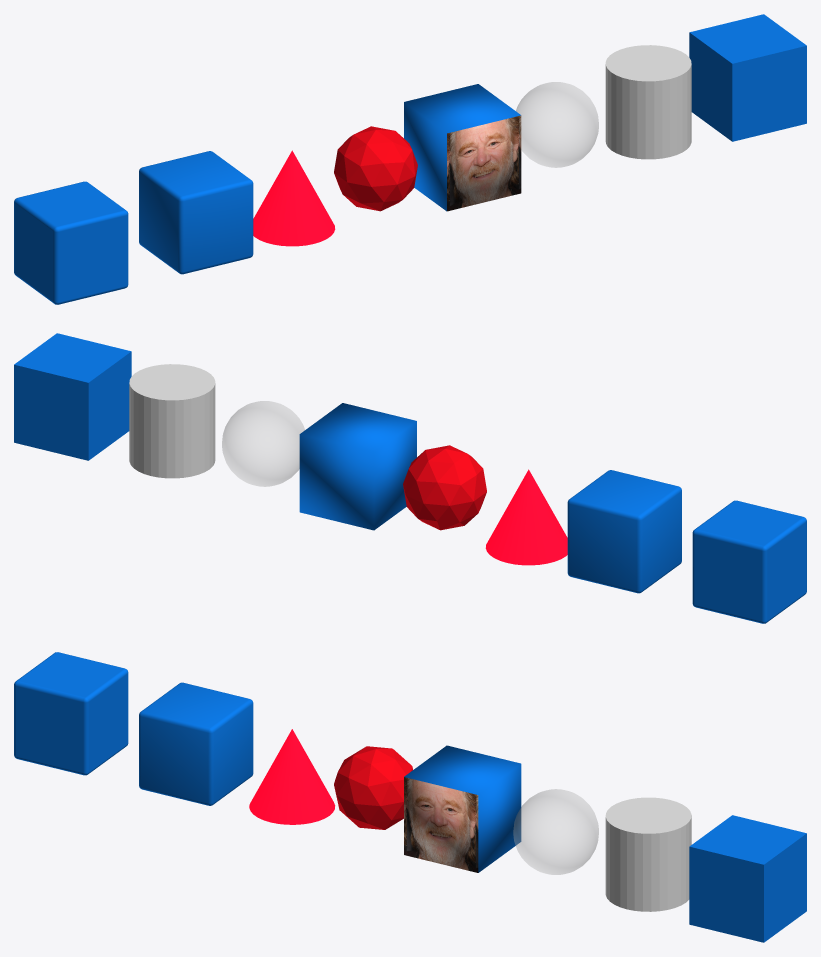
The picture shows the model from 3 angles, top to bottom: view 1: azimuth 30°, elevation 25°; view 2: azimuth 150°, elevation 25°; view 3: azimuth 330°, elevation 25°; orthographic projection.
Parts seen in each view (by area): view 1: Cube.001, Cube, Cube.003, Cube.002, Cylinder, Sphere, Icosphere, Cone; view 2: Cube.001, Cube, Cube.003, Cube.002, Cylinder, Sphere, Icosphere, Cone; view 3: Cube, Cube.001, Cube.003, Cube.002, Cylinder, Sphere, Icosphere, Cone.
Part boxes in pixels (x1,y1,x2,y2): Cube.001: (689, 14, 806, 141); Cube: (404, 84, 521, 211); Cube.003: (14, 181, 128, 304); Cube.002: (139, 151, 253, 274); Cylinder: (605, 45, 691, 159); Sphere: (516, 82, 598, 167); Icosphere: (334, 126, 417, 211); Cone: (253, 150, 335, 246); Cube.001: (14, 333, 131, 460); Cube: (299, 403, 416, 530); Cube.003: (692, 500, 806, 623); Cube.002: (567, 470, 681, 593); Cylinder: (129, 364, 215, 478); Sphere: (222, 401, 304, 486); Icosphere: (403, 445, 486, 530); Cone: (485, 469, 567, 565); Cube: (404, 745, 521, 872); Cube.001: (689, 815, 806, 942); Cube.003: (14, 652, 128, 775); Cube.002: (139, 682, 253, 805); Cylinder: (605, 797, 691, 911); Sphere: (513, 789, 598, 874); Icosphere: (334, 746, 412, 829); Cone: (249, 729, 335, 824).
Bounding box in the file's own units: 20.16 × 2 × 2.
Materials: 6 (1 with a texture image).
